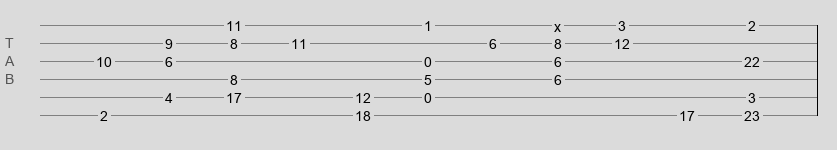0: (424, 54, 432, 64), (424, 90, 432, 100)
1: (424, 18, 432, 28)
10: (96, 54, 112, 64)
11: (226, 18, 242, 28), (291, 36, 307, 46)
12: (355, 90, 371, 100), (614, 36, 630, 46)
17: (226, 90, 242, 100), (679, 108, 695, 118)
18: (355, 108, 371, 118)
2: (100, 108, 108, 118), (748, 18, 756, 28)
22: (744, 54, 760, 64)
23: (744, 108, 760, 118)
3: (618, 18, 626, 28), (748, 90, 756, 100)
4: (165, 90, 173, 100)
5: (424, 72, 432, 82)
6: (165, 54, 173, 64), (489, 36, 497, 46), (554, 54, 562, 64), (554, 72, 562, 82)
8: (230, 72, 238, 82), (230, 36, 238, 46), (554, 36, 562, 46)
9: (165, 36, 173, 46)
x: (554, 19, 561, 27)
